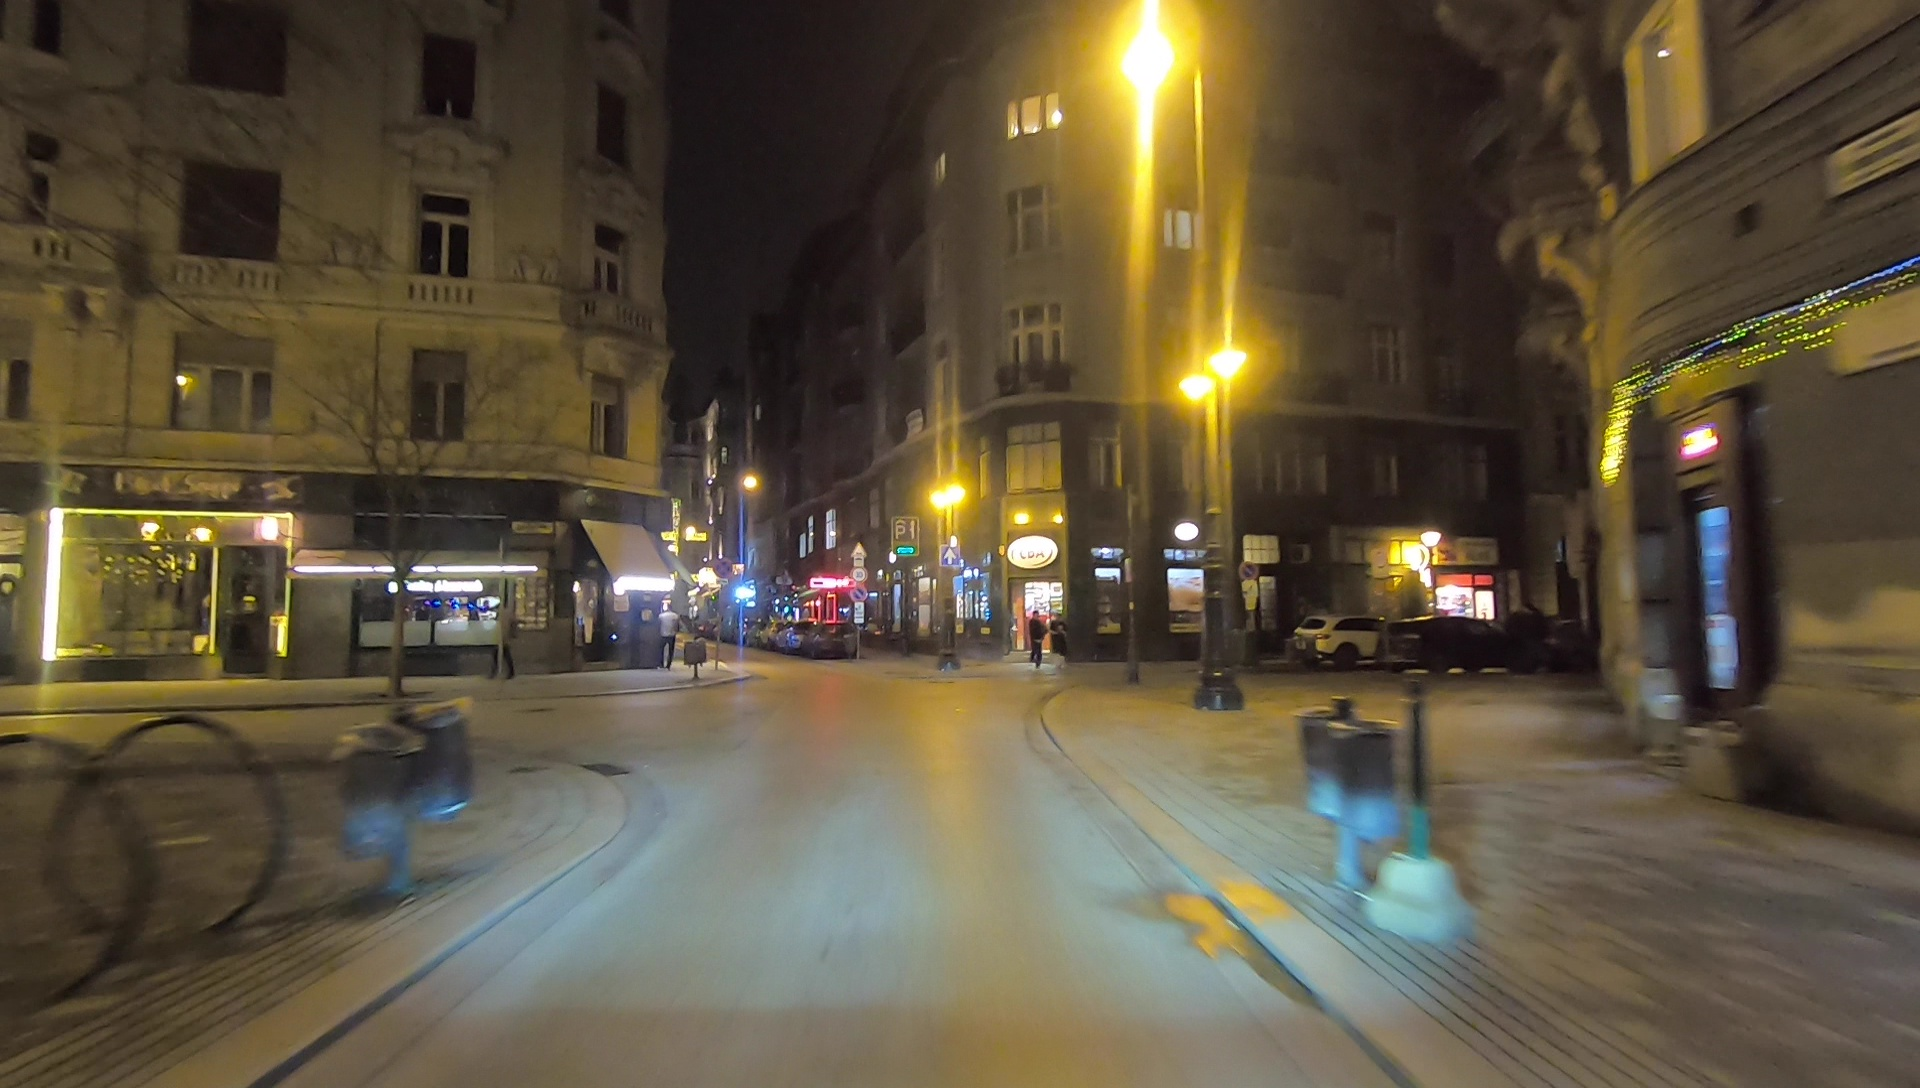person: (488, 599, 523, 678), (656, 602, 682, 665), (1045, 611, 1067, 673), (1026, 608, 1045, 669)
